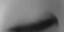LeftEyeFatigue: (3, 8, 60, 32)
